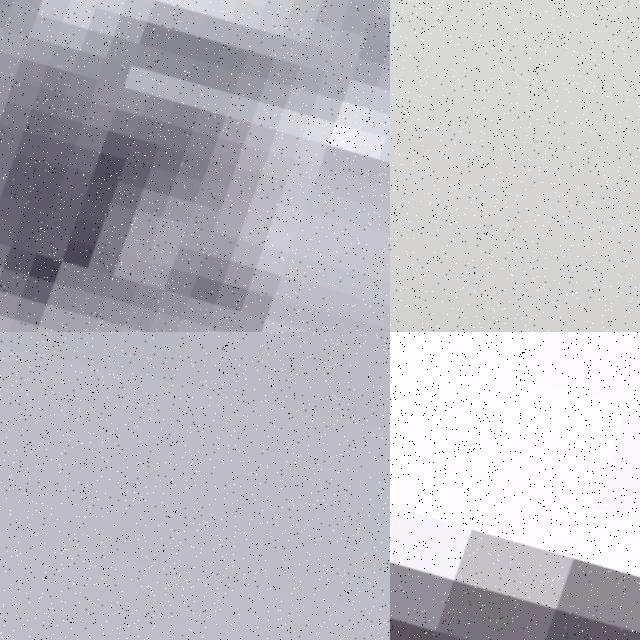0: (0, 0, 390, 332)
drone: (390, 0, 640, 332), (390, 332, 640, 640)
